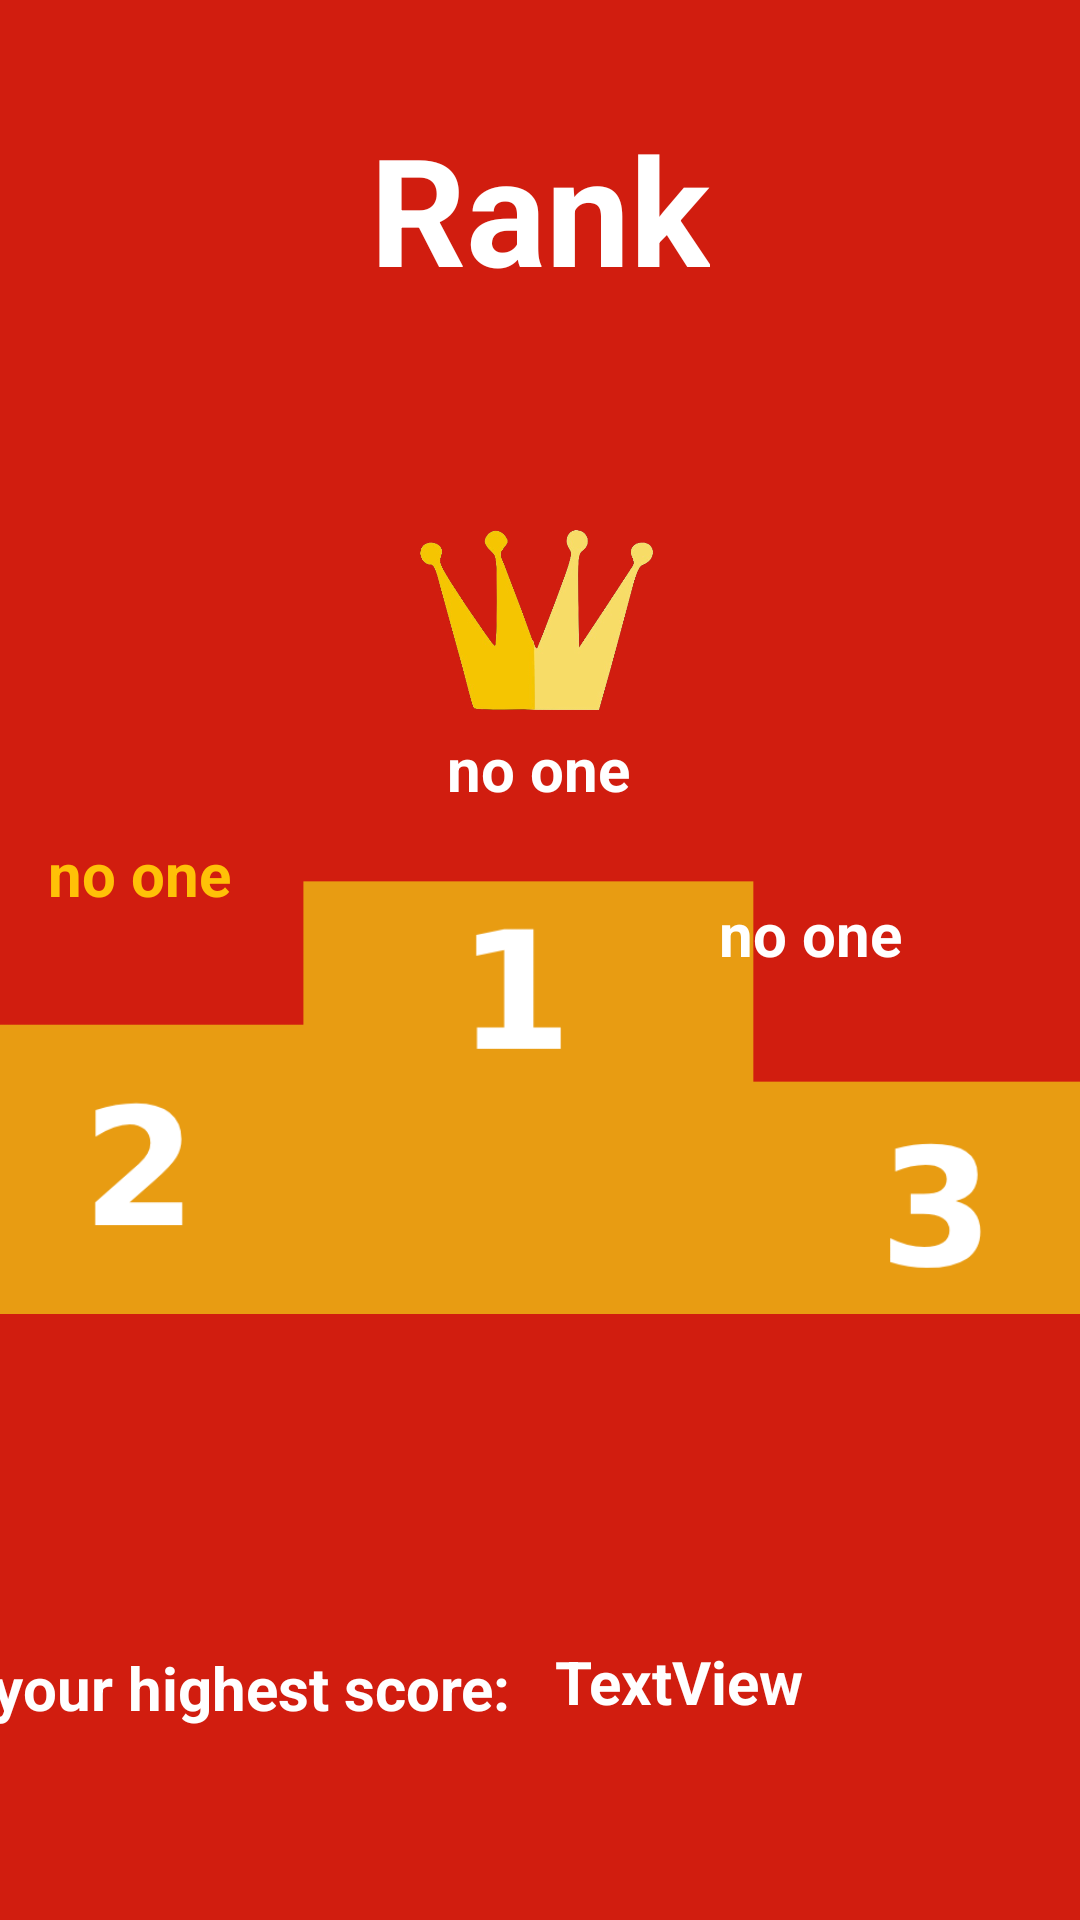

Where icons sit on this 1080px x 1920px app screen, as rect(x1, y1, x2, y2):
crown: rect(420, 530, 653, 710)
